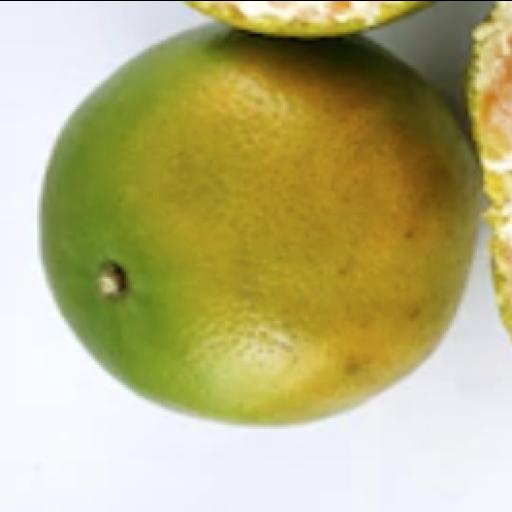orange: (41, 27, 477, 425), (468, 1, 511, 333), (187, 1, 432, 35)
